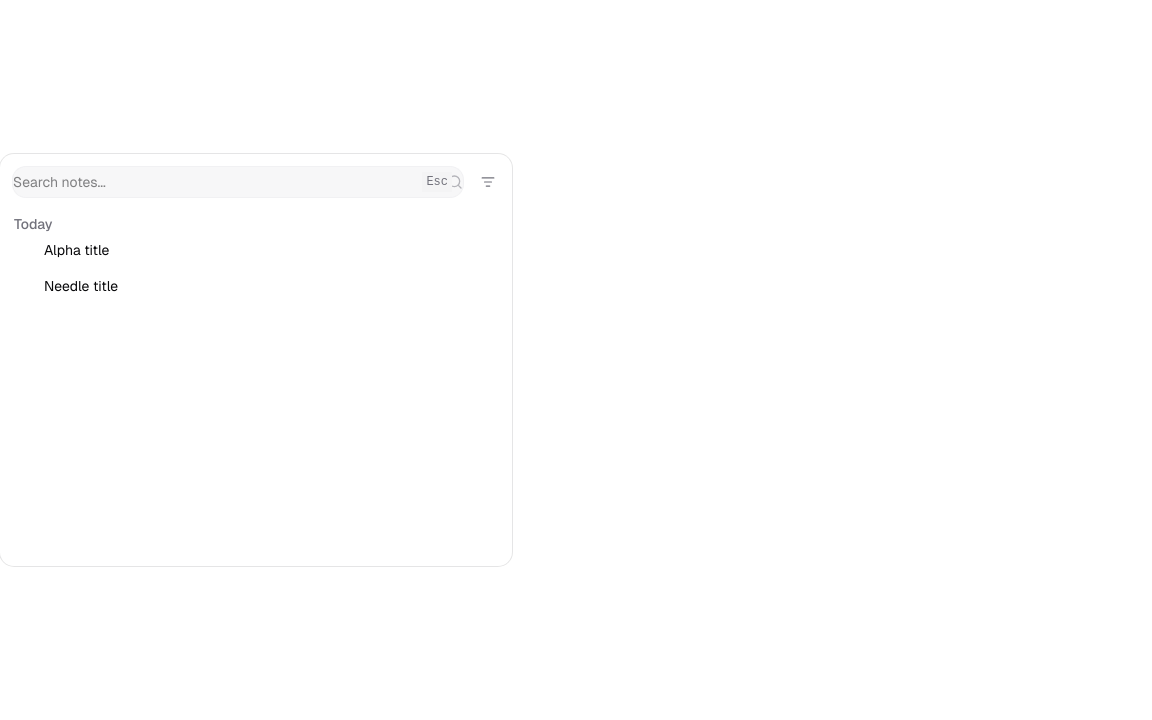
Test: SearchCommand filters › filters local results by title when title-only is enabled
The width and height of the screenshot is (1152, 720).
Type "needle" into the dropdown with placeholder "Search notes...". click: [226, 182]
box: [13, 158, 439, 206]
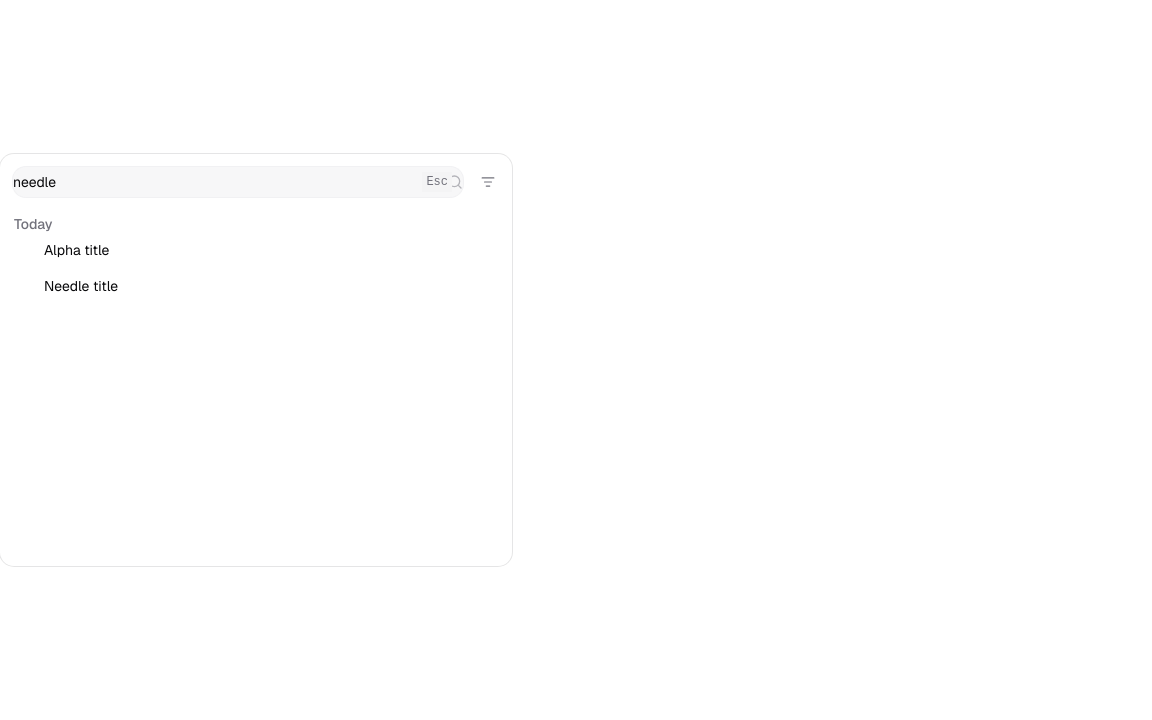
expect the text "Alpha title" is shown: met, box [44, 241, 109, 259]
expect the text "Needle title" is shown: met, box [44, 277, 118, 295]
Click the button named "Show filters". click: [488, 182]
box: [472, 166, 504, 198]
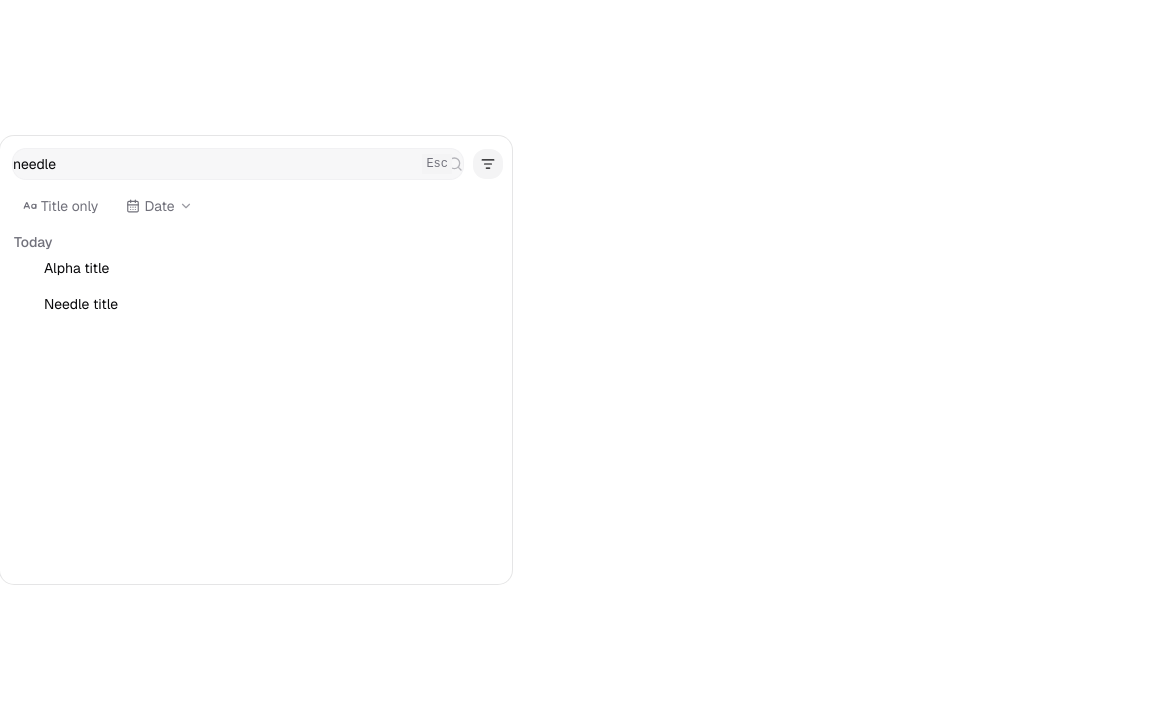
Click the button with aria-label "Search titles only". click: [61, 206]
box: [12, 192, 109, 220]
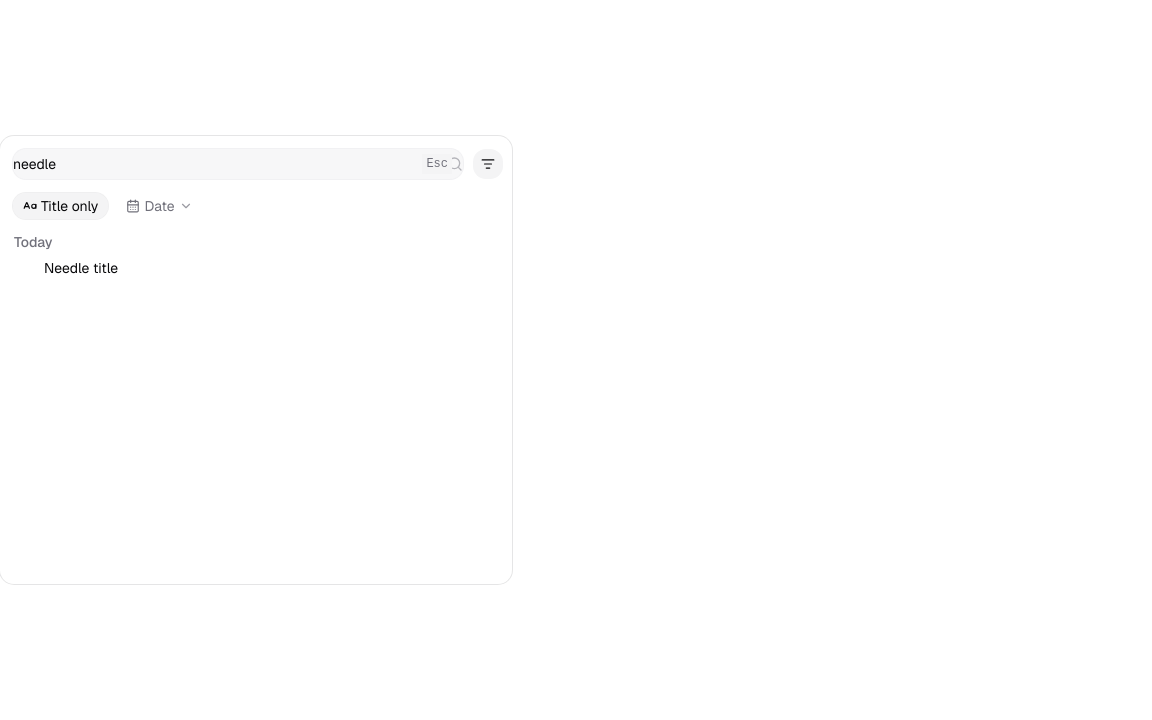
expect the text "Needle title" is shown: met, box [44, 259, 118, 277]
expect the option "Alpha title" is gone: met
